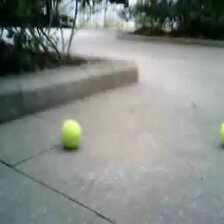tennis: (61, 119, 83, 149)
